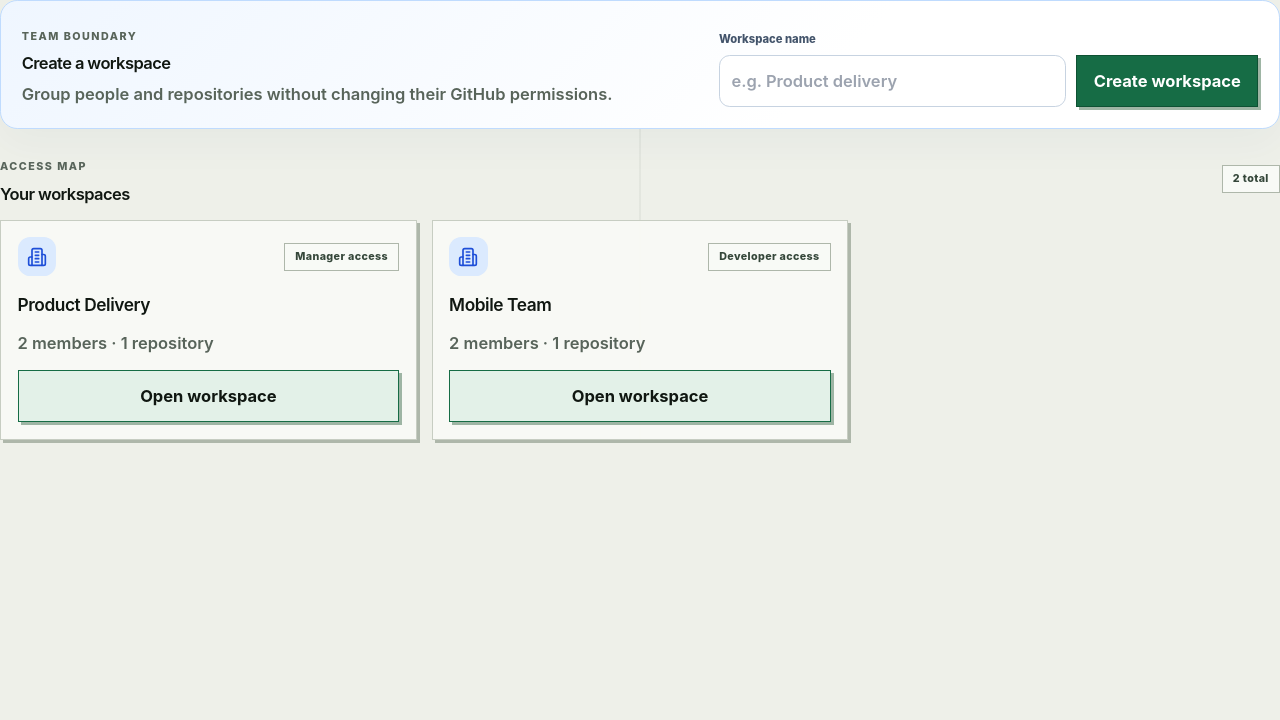
Scenario: workspace experience › fails closed instead of rendering a poisoned stored repository URL
The image size is (1280, 720).
Click the button with aria-label "Open Product Delivery": (208, 396) [18,370,399,422]
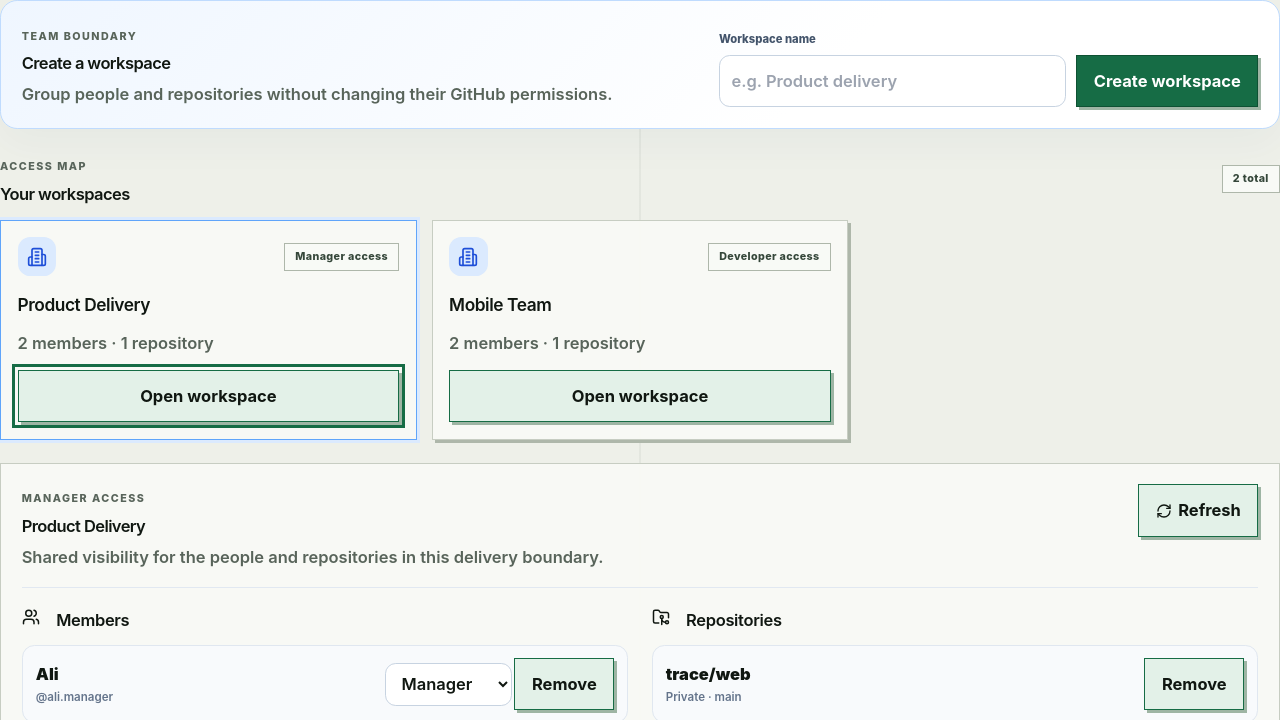
Expected: the 2nd heading "Product Delivery" is shown, [22,516,145,536]
